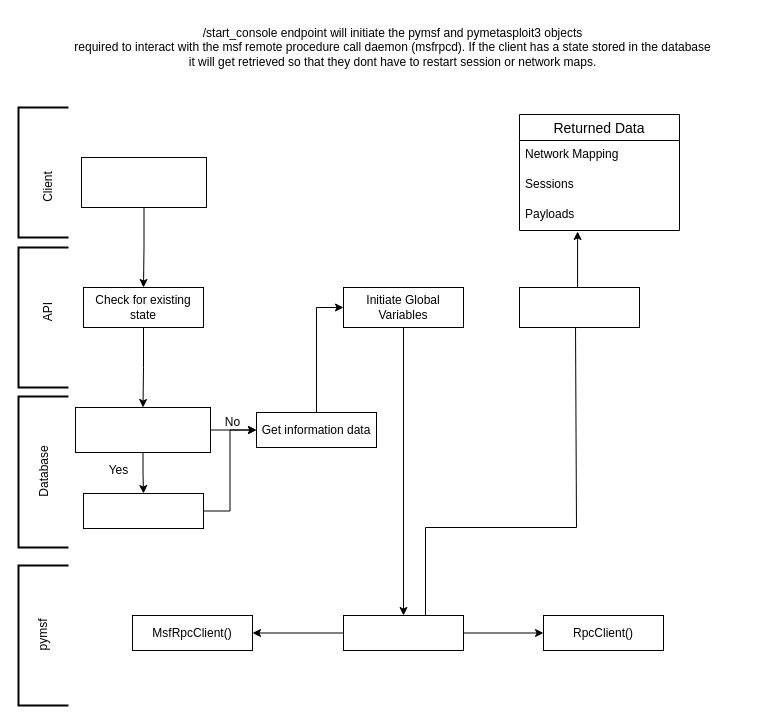
Image size: 759x723. Some labels were removed from this diagram. Each missing label, with the centre of its shape:
"Console()" goes at (403,632).
"endpoint /start_console/{pheonix_network_id}" goes at (143,182).
"Find phoenix session through id" goes at (142,429).
"Get state if exists" goes at (143,510).
"Initiate State Objects" goes at (579,307).
